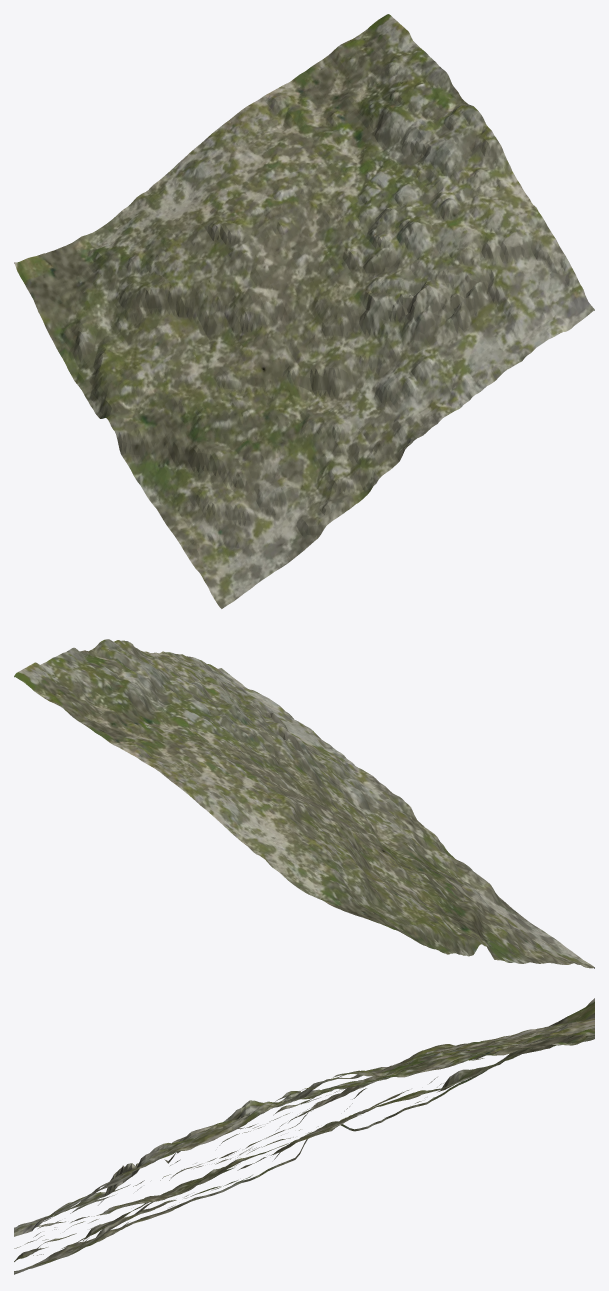
3 renders of one model, top to bottom at view 1: azimuth 30°, elevation 25°; view 2: azimuth 150°, elevation 25°; view 3: azimuth 270°, elevation 25°, orthographic. The views are drawn at different scales.
Bounding box in the file's own units: 250 × 227 × 241.
1 material, 1 textured.
